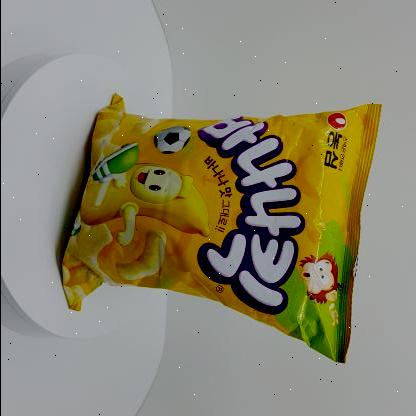Others: (53, 88, 391, 374)
